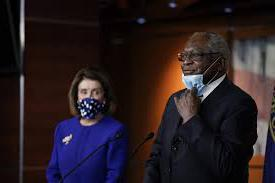mask_weared_incorrect: (175, 45, 207, 87)
with_mask: (77, 85, 102, 109)
